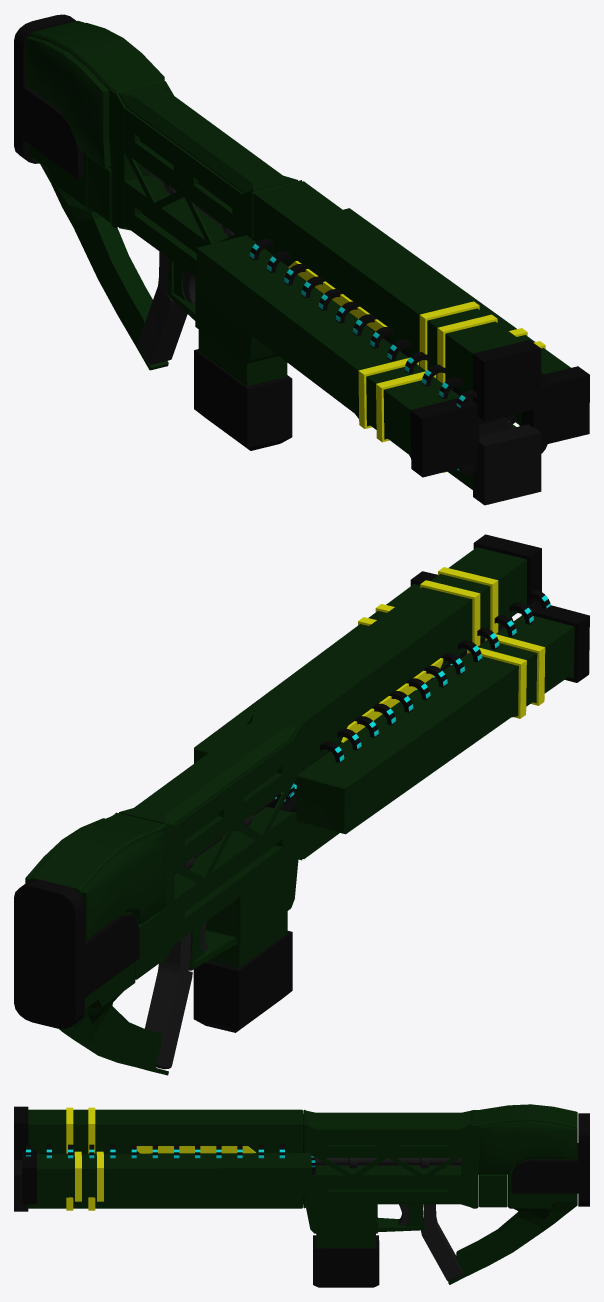
File: railgun up.FBX
The picture shows the model from 3 angles, top to bottom: view 1: azimuth 30°, elevation 25°; view 2: azimuth 150°, elevation 25°; view 3: azimuth 270°, elevation 25°; orthographic projection. The views are drawn at different scales.
Parts seen in each view (by area): view 1: railgun up; view 2: railgun up; view 3: railgun up.
Boxes of the visible parts, left/top/right/bottom form: railgun up: left=14, top=14, right=589, bottom=505; railgun up: left=14, top=534, right=589, bottom=1075; railgun up: left=14, top=1104, right=589, bottom=1287.
Bounding box in the file's own units: 7.75 × 12.36 × 37.47.
